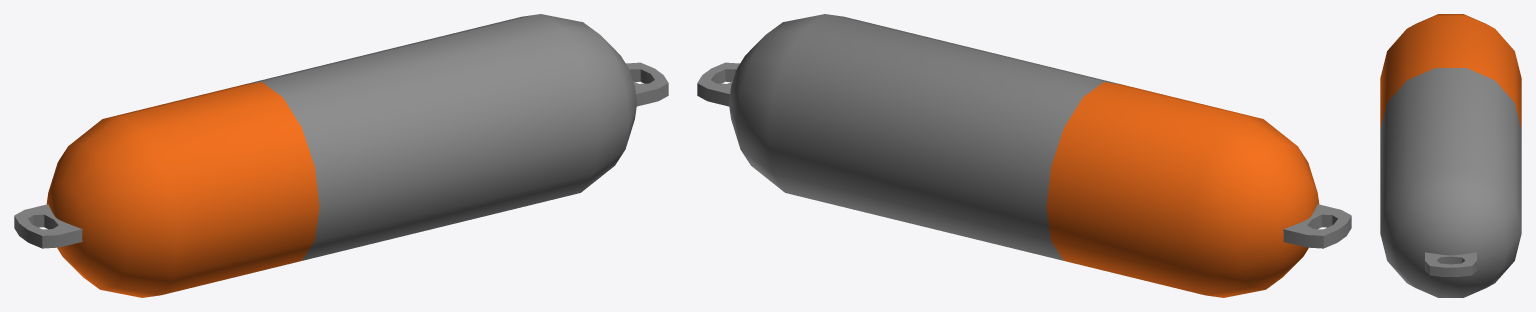
Rendered from prop_27.FBX.
3 views of the same model, side by side, from view 1: azimuth 30°, elevation 25°; view 2: azimuth 150°, elevation 25°; view 3: azimuth 270°, elevation 25° (orthographic). The views are drawn at different scales.
Visible parts, largest first — view 1: prop_27; view 2: prop_27; view 3: prop_27.
Part boxes in pixels (box(x1,y1,x2,y2)): prop_27: box(14, 14, 668, 297); prop_27: box(697, 14, 1351, 297); prop_27: box(1380, 14, 1521, 297).
Bounding box in the file's own units: 42.42 × 10.61 × 10.88.
